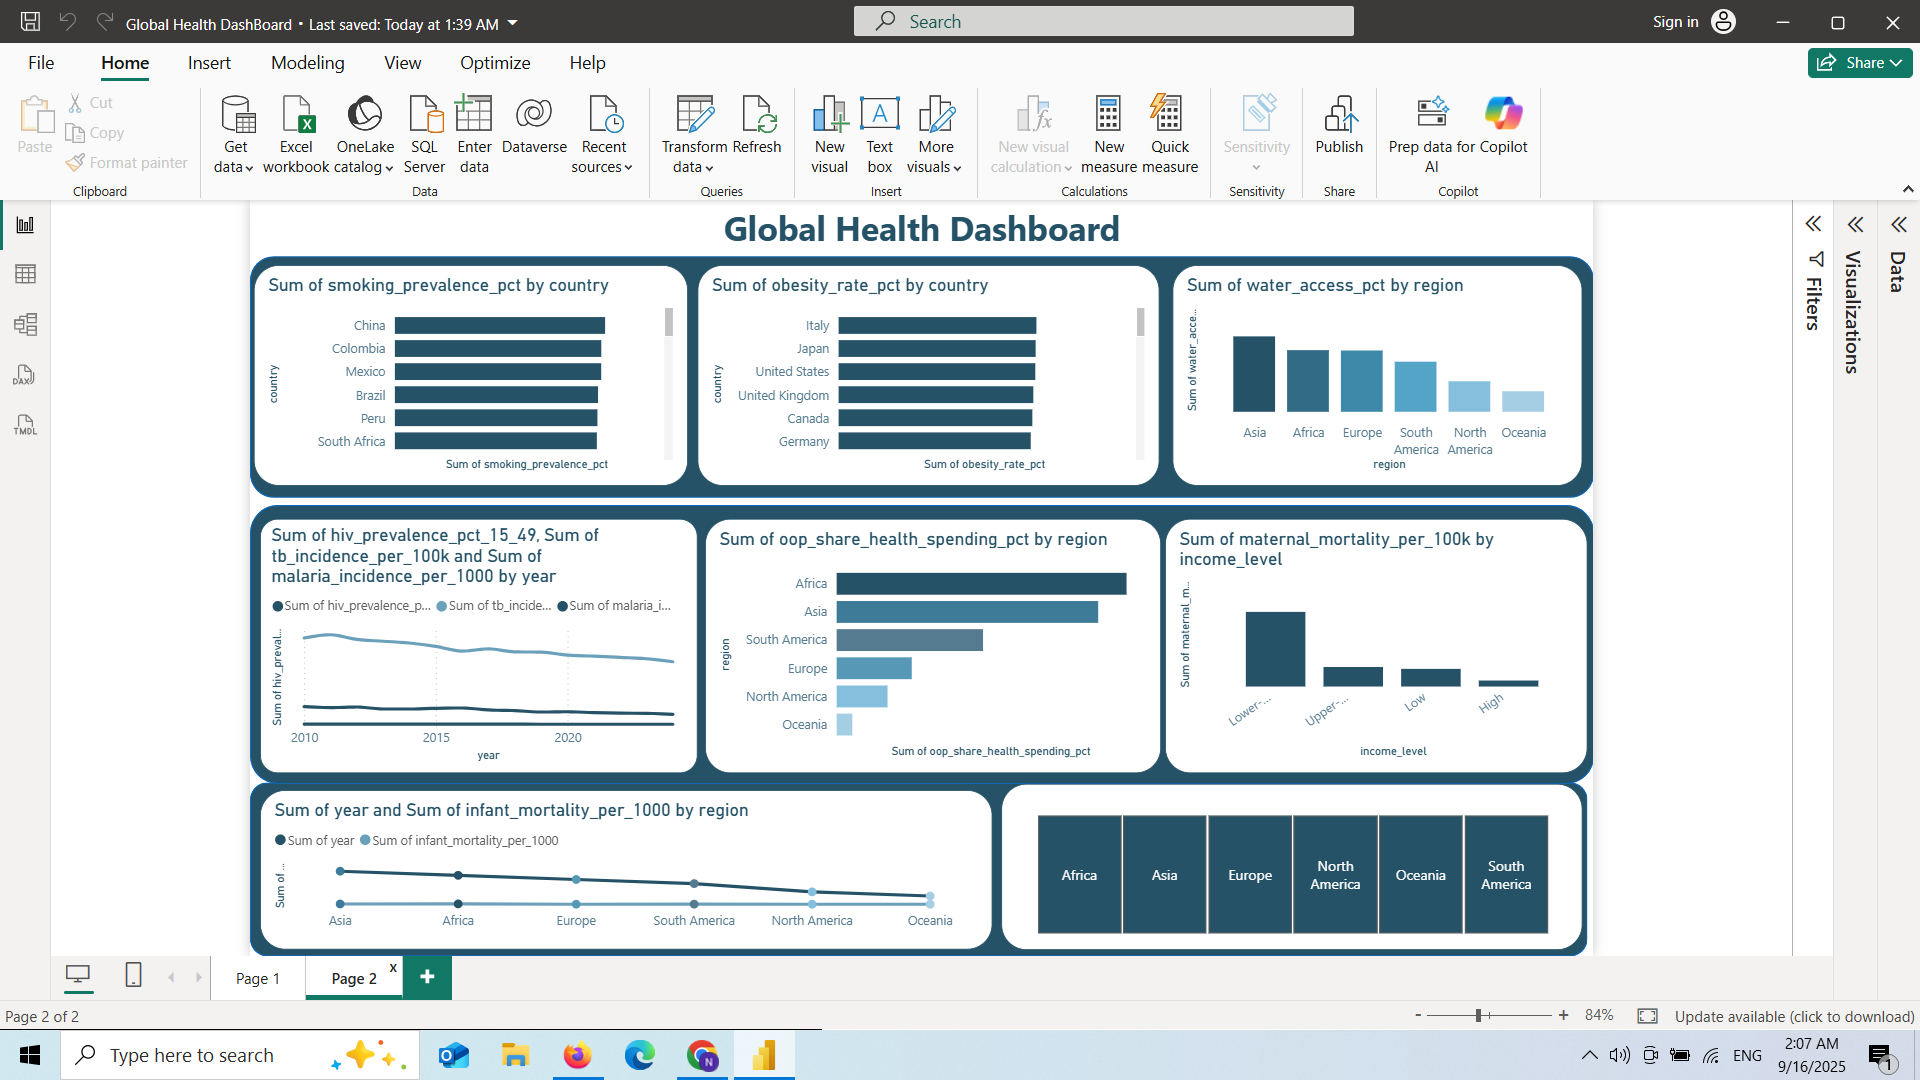

What the dashboard file says about the page in this screenshot:
{"tool":"powerbi","page":{"name":"Page 2","canvas":[1280,720],"ordinal":1},"visuals":[{"type":"shape","box":[0,554.8,1273.8,165.5],"z":0},{"type":"shape","box":[0,290.7,1280.1,265.7],"z":1000},{"type":"shape","box":[0,53.3,1280,230],"z":2000},{"type":"textbox","box":[0,0,1280,90],"z":3000},{"type":"barChart","fields":{"Category":["global_health_2010_2024.country"],"Y":["global_health_2010_2024.smoking_prevalence_pct"]},"box":[3.3,61.7,413.3,210],"z":4000},{"type":"barChart","fields":{"Category":["global_health_2010_2024.country"],"Y":["global_health_2010_2024.obesity_rate_pct"]},"box":[426.7,61.7,440,210],"z":5000},{"type":"columnChart","fields":{"Category":["global_health_2010_2024.region"],"Y":["global_health_2010_2024.water_access_pct"]},"box":[878.3,61.7,390,210],"z":6000},{"type":"lineChart","fields":{"Category":["global_health_2010_2024.year"],"Y":["global_health_2010_2024.hiv_prevalence_pct_15_49","global_health_2010_2024.tb_incidence_per_100k","global_health_2010_2024.malaria_incidence_per_1000"]},"box":[10,303,417,242],"z":7000},{"type":"clusteredBarChart","fields":{"Category":["global_health_2010_2024.region"],"Y":["global_health_2010_2024.oop_share_health_spending_pct"]},"box":[433,303,434,242],"z":8000},{"type":"lineChart","fields":{"Y":["global_health_2010_2024.year","global_health_2010_2024.infant_mortality_per_1000"],"Category":["global_health_2010_2024.region"]},"box":[9.5,561.9,697.6,152.4],"z":9000},{"type":"clusteredColumnChart","fields":{"Category":["global_health_2010_2024.income_level"],"Y":["global_health_2010_2024.maternal_mortality_per_100k"]},"box":[872,303,402,242],"z":10000},{"type":"slicer","fields":{"Values":["global_health_2010_2024.region"]},"box":[715.5,556,553.6,158.3],"z":11000}]}

Visuals, with their boxes on the page's 1280x720 design canvas (x1, y1, x2, y2). These are canvas units, not pixel positions in the 1920x1080 screenshot, which may show the page scaled, cropped or inside an application window:
shape: [0,555,1274,720]
shape: [0,291,1280,556]
shape: [0,53,1280,283]
textbox: [0,0,1280,90]
barChart - global_health_2010_2024.country x global_health_2010_2024.smoking_prevalence_pct: [3,62,417,272]
barChart - global_health_2010_2024.country x global_health_2010_2024.obesity_rate_pct: [427,62,867,272]
columnChart - global_health_2010_2024.region x global_health_2010_2024.water_access_pct: [878,62,1268,272]
lineChart - global_health_2010_2024.year x global_health_2010_2024.hiv_prevalence_pct_15_49: [10,303,427,545]
clusteredBarChart - global_health_2010_2024.region x global_health_2010_2024.oop_share_health_spending_pct: [433,303,867,545]
lineChart - global_health_2010_2024.year x global_health_2010_2024.infant_mortality_per_1000: [10,562,707,714]
clusteredColumnChart - global_health_2010_2024.income_level x global_health_2010_2024.maternal_mortality_per_100k: [872,303,1274,545]
slicer - global_health_2010_2024.region: [716,556,1269,714]
